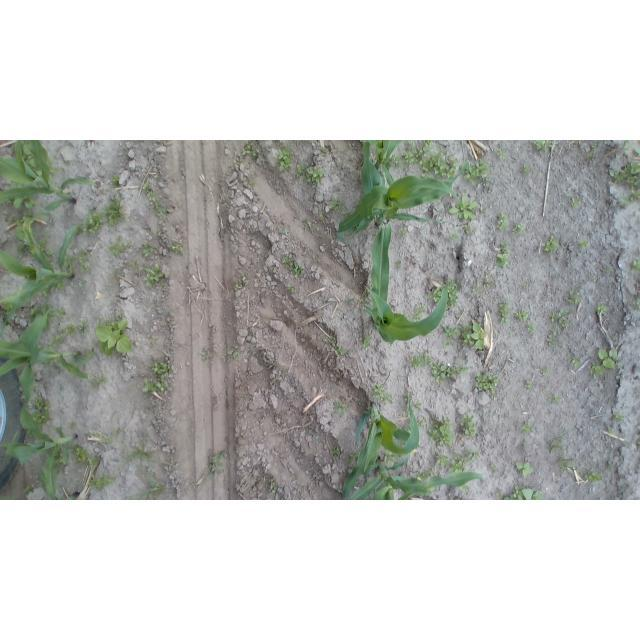Maize: (337, 142, 471, 247), (1, 346, 77, 500), (1, 213, 78, 340), (342, 398, 419, 500), (0, 141, 98, 212), (349, 453, 491, 499), (2, 309, 89, 380), (365, 278, 448, 347), (374, 140, 402, 174), (65, 492, 79, 501), (1, 497, 16, 500)
Weeds: (401, 140, 457, 177), (95, 314, 134, 357), (124, 432, 155, 468), (139, 360, 169, 394), (431, 362, 469, 388), (591, 348, 621, 375), (610, 161, 640, 188), (427, 418, 454, 447), (497, 484, 545, 500), (136, 477, 168, 500), (462, 322, 487, 350), (449, 193, 475, 219), (104, 200, 128, 228), (449, 451, 478, 473), (31, 393, 50, 425), (465, 160, 490, 184), (474, 371, 498, 395), (108, 235, 133, 258), (74, 215, 103, 234), (144, 264, 165, 288), (87, 474, 116, 490), (283, 257, 304, 278), (460, 413, 476, 439), (552, 307, 572, 327), (208, 451, 225, 474), (305, 168, 328, 185), (375, 384, 394, 404), (549, 430, 568, 450), (88, 431, 111, 446), (413, 351, 432, 369), (142, 182, 158, 203), (278, 147, 292, 171), (78, 251, 93, 273), (447, 281, 459, 308), (516, 461, 535, 478), (49, 330, 66, 348), (38, 237, 54, 256), (534, 140, 553, 156), (72, 444, 87, 464), (542, 233, 558, 251), (494, 213, 510, 231), (498, 301, 510, 324), (566, 291, 584, 306), (14, 197, 36, 209), (91, 374, 107, 390), (333, 400, 351, 413), (435, 453, 448, 470), (586, 470, 603, 483), (155, 202, 167, 220), (558, 457, 573, 471), (444, 325, 459, 339), (429, 286, 442, 302), (77, 321, 90, 336), (412, 307, 425, 322), (360, 335, 373, 349), (235, 277, 248, 291), (172, 242, 185, 256), (514, 309, 528, 322), (496, 254, 508, 269), (142, 243, 154, 257), (16, 219, 24, 239), (55, 308, 68, 320), (495, 148, 507, 161), (513, 223, 527, 234), (228, 347, 240, 359), (570, 355, 582, 367), (597, 302, 609, 314), (242, 142, 253, 155), (384, 451, 395, 463), (417, 470, 429, 481), (613, 413, 625, 424), (519, 165, 531, 176), (631, 258, 639, 274), (89, 456, 100, 467), (523, 422, 534, 433), (324, 333, 336, 343), (65, 325, 75, 337), (540, 365, 550, 377), (630, 189, 640, 201), (111, 174, 121, 185), (417, 417, 427, 428), (547, 335, 558, 345), (269, 480, 278, 492), (346, 454, 355, 466), (490, 461, 499, 473), (526, 379, 535, 391), (578, 240, 590, 249), (57, 453, 64, 468), (391, 155, 399, 168), (330, 201, 343, 209), (586, 150, 594, 163), (29, 305, 39, 315), (330, 447, 340, 457), (601, 266, 612, 275), (487, 280, 496, 290), (295, 161, 301, 176), (570, 197, 581, 205), (624, 194, 632, 205), (633, 299, 640, 311), (549, 397, 561, 404), (25, 486, 34, 495), (396, 261, 405, 270), (622, 141, 631, 150), (451, 234, 462, 241), (462, 225, 473, 232), (472, 288, 484, 294), (527, 324, 535, 333), (86, 349, 93, 359), (279, 229, 289, 236), (252, 152, 260, 160), (69, 422, 78, 429), (415, 403, 424, 410), (460, 485, 469, 492), (400, 229, 407, 238), (319, 212, 326, 221), (501, 242, 508, 251), (479, 204, 486, 213), (78, 279, 85, 288), (344, 210, 351, 218), (234, 159, 242, 166), (633, 148, 640, 156), (117, 427, 122, 437), (290, 287, 297, 294), (336, 348, 344, 354), (249, 180, 256, 186), (553, 330, 559, 336), (522, 285, 528, 290), (592, 276, 597, 282), (610, 430, 615, 435), (132, 261, 136, 267), (445, 342, 450, 346), (320, 147, 325, 151), (297, 141, 302, 144), (303, 141, 308, 144)
